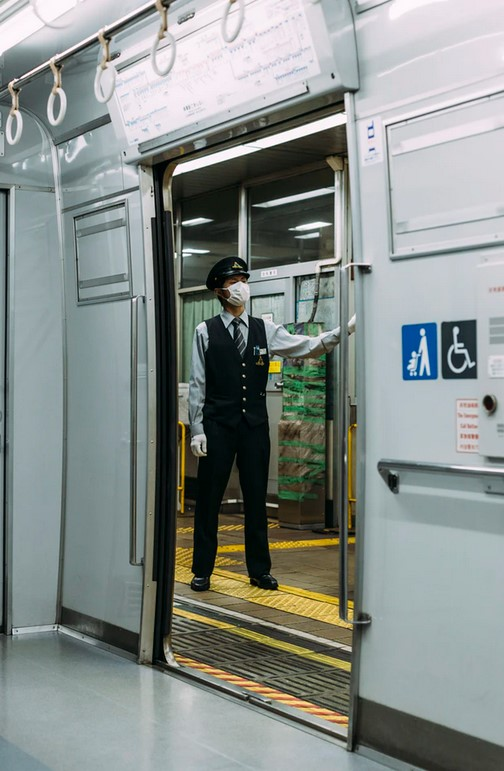face_with_mask: (206, 255, 254, 311)
